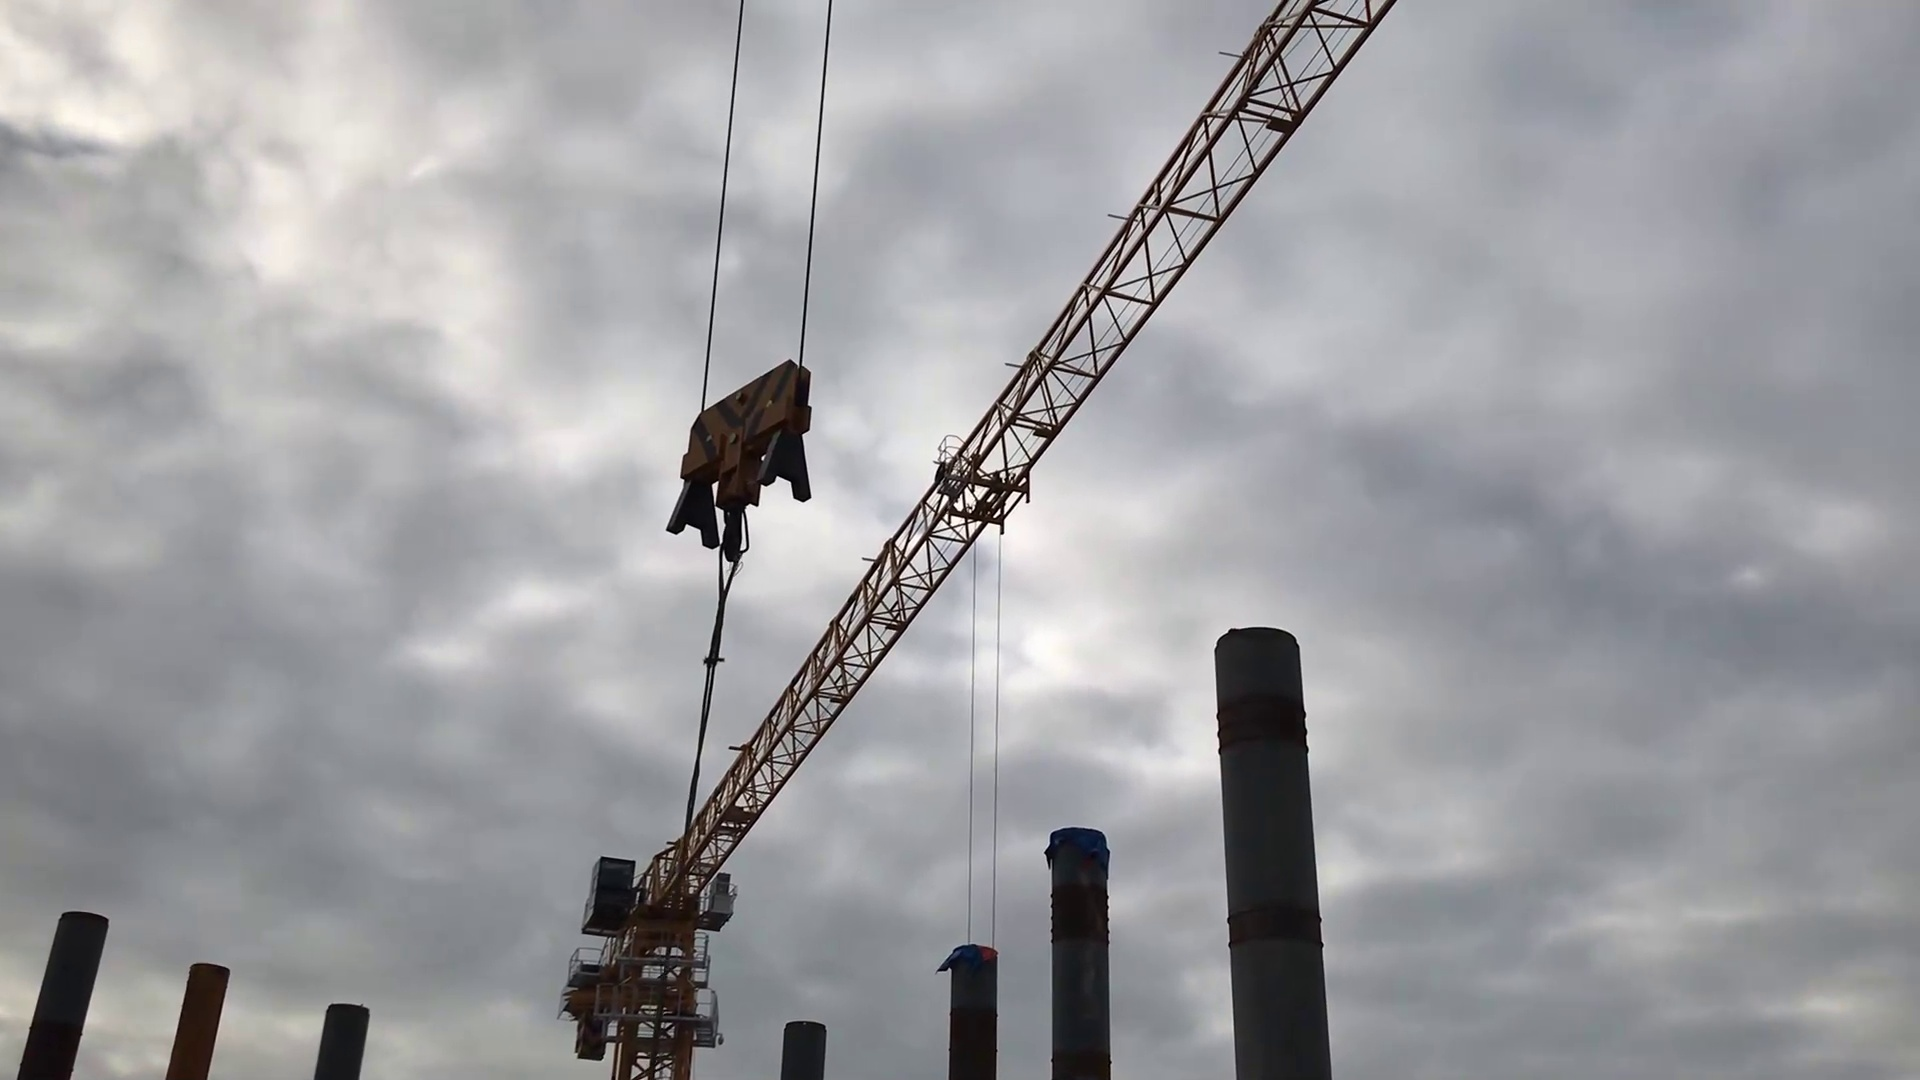hook: (663, 352, 819, 568)
